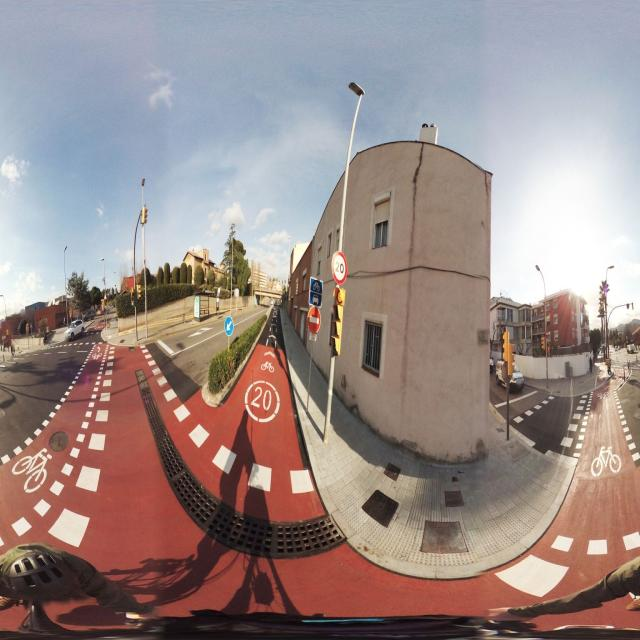car: (66, 319, 84, 340), (626, 342, 637, 354)
